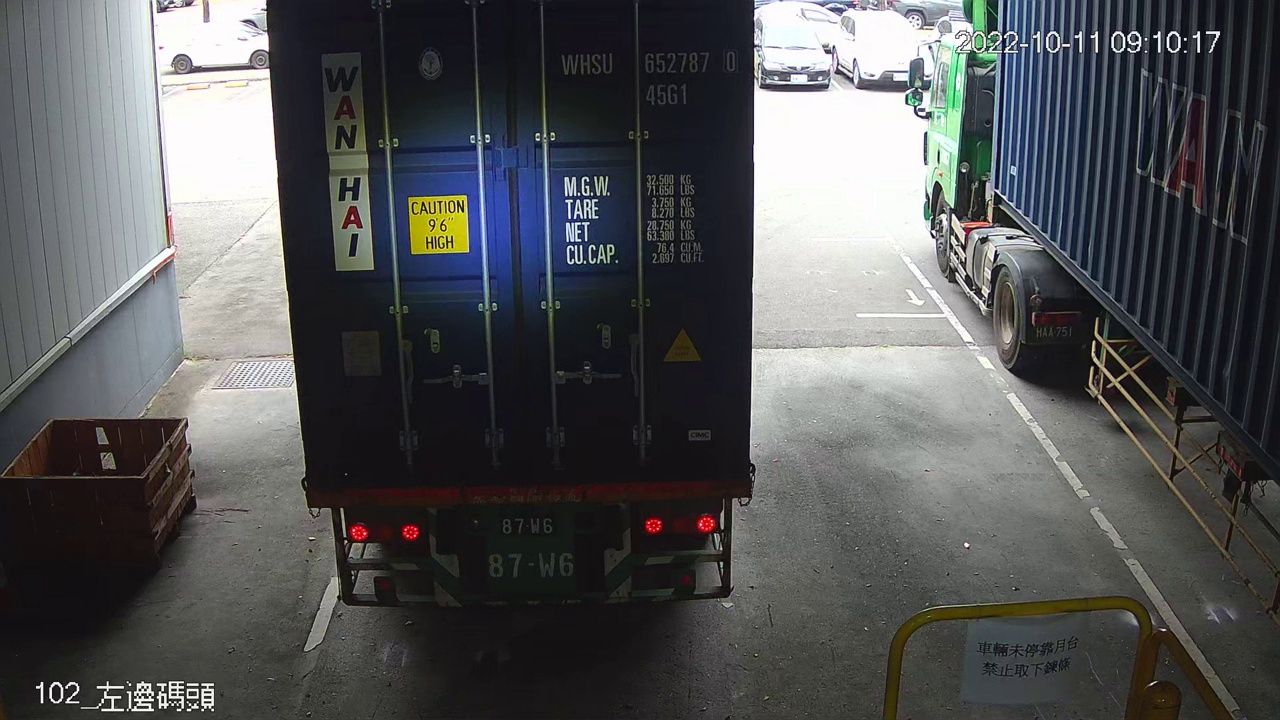container: (553, 44, 745, 113)
